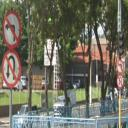NoVirarEsquerda: (2, 10, 22, 50), (117, 60, 124, 74)
NoVirarU: (1, 50, 22, 88), (116, 76, 124, 88)
